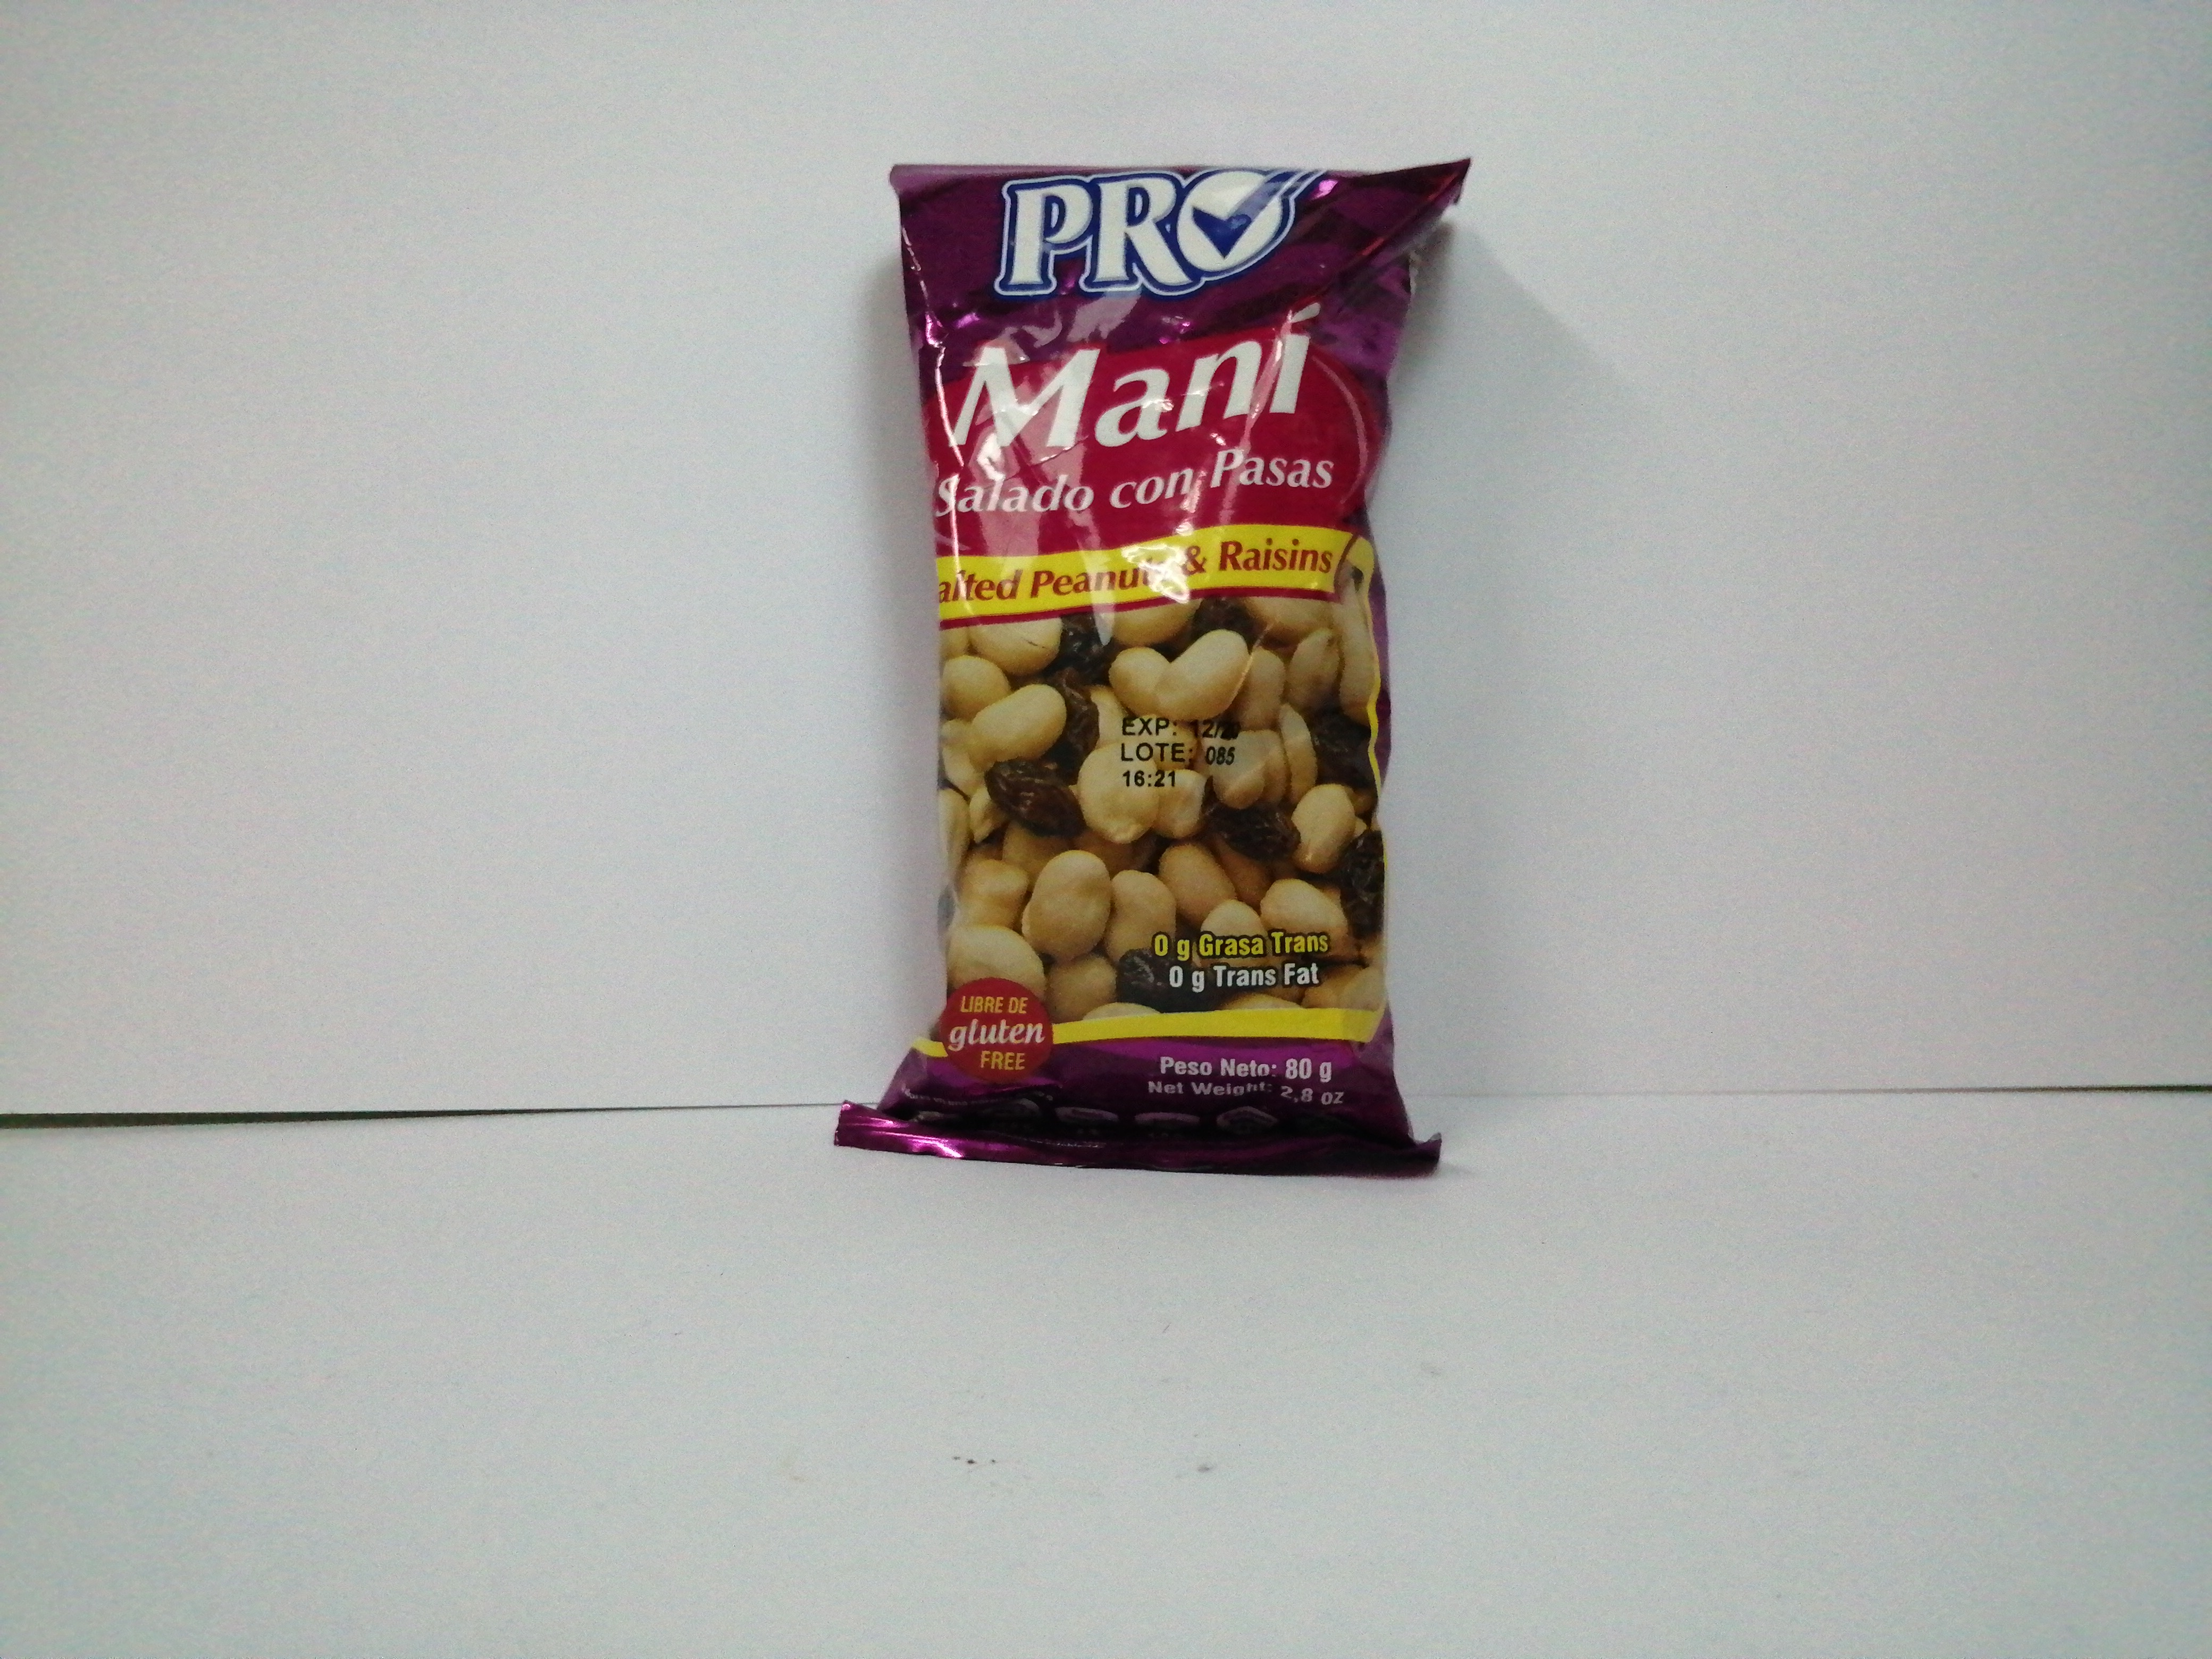mani: (831, 160, 1468, 1182)
